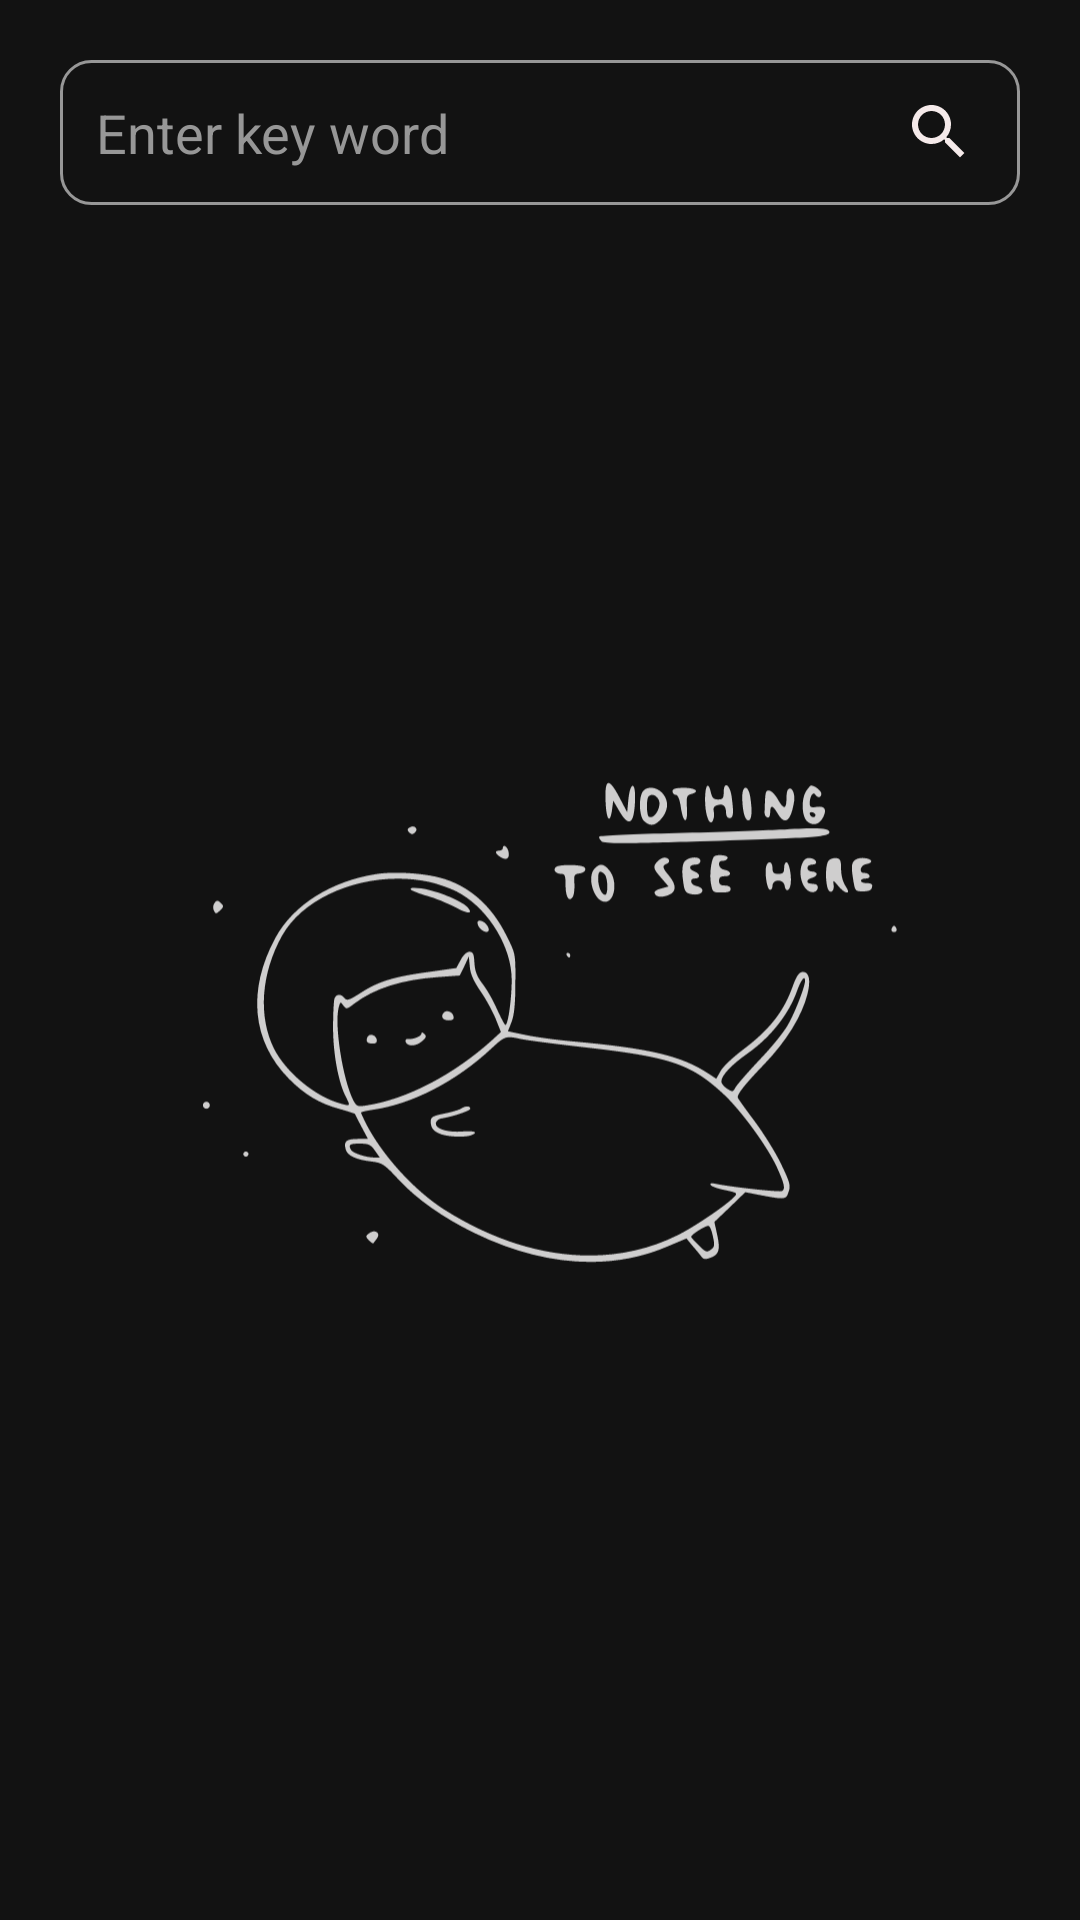

Named icons in this screenshot (1080px×1920px) and their bounding boxes, (x1, y1, x2, y2):
search: (912, 105, 964, 157)
